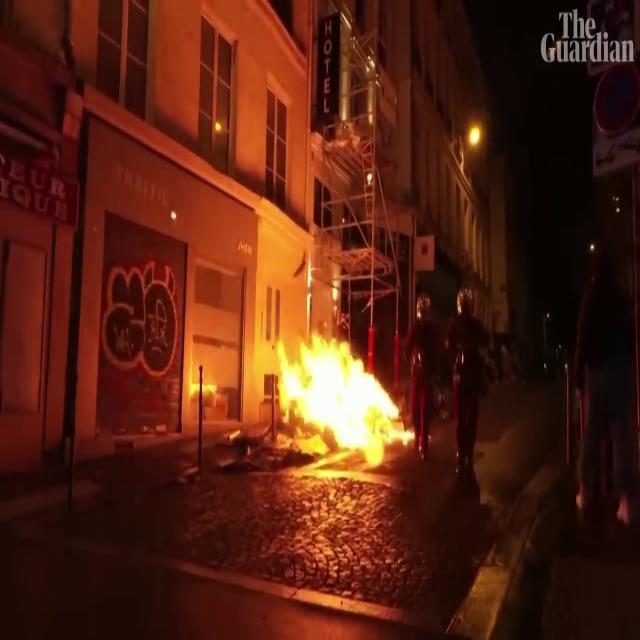Fire: (277, 273, 408, 461)
